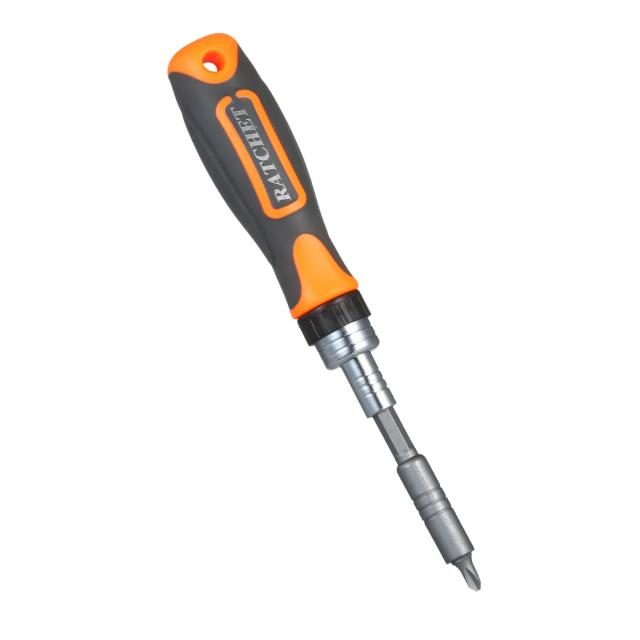Screwdriver: (167, 33, 481, 591)
